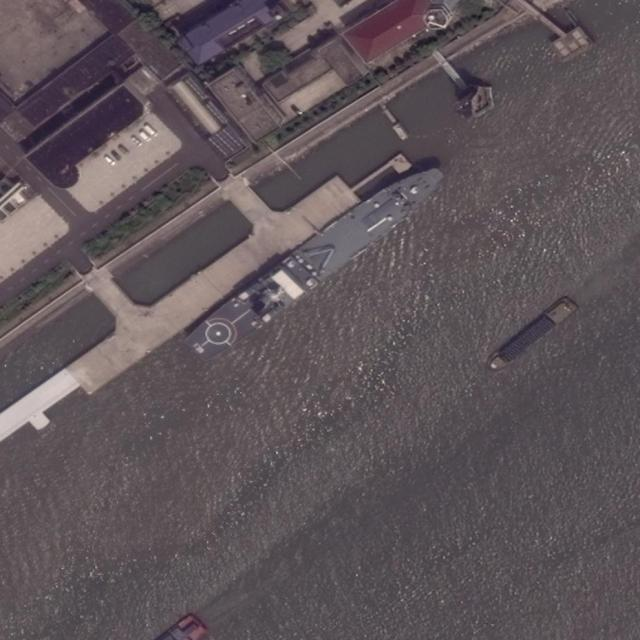Cargo: (483, 293, 578, 378)
Landing: (180, 157, 454, 370)
